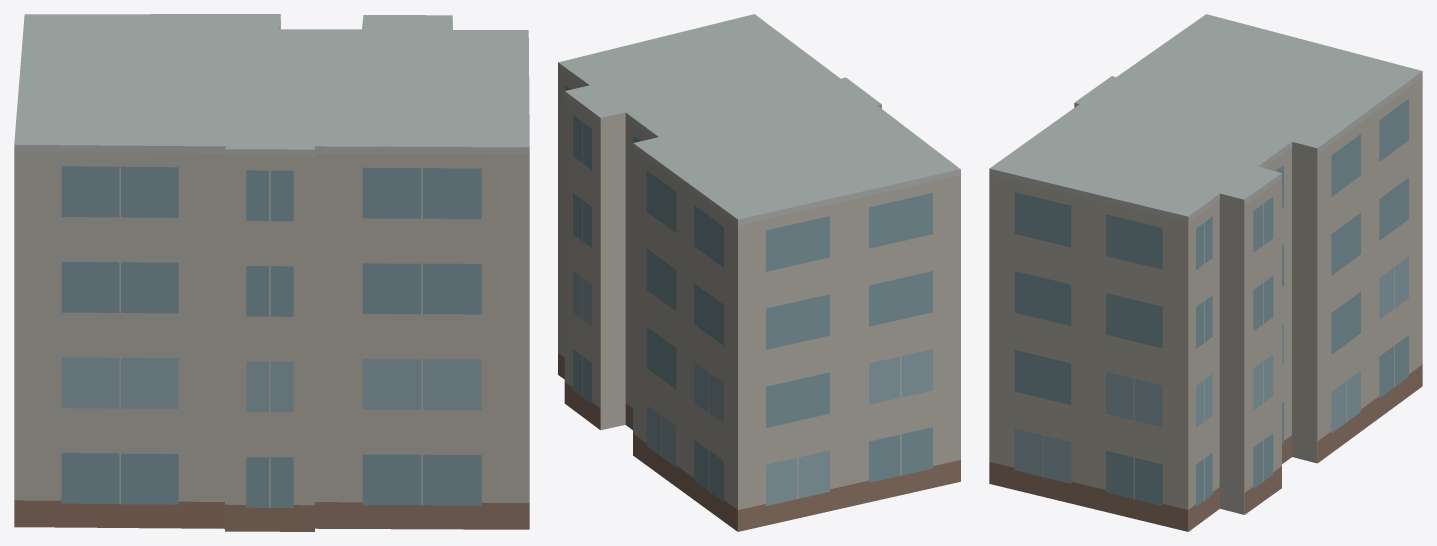
File: survey-upis-32706585.glb
3 views of the same model, side by side, from view 1: azimuth 30°, elevation 25°; view 2: azimuth 150°, elevation 25°; view 3: azimuth 270°, elevation 25° (orthographic). The views are drawn at different scales.
Visible parts, largest first — view 1: survey-upis-32706585.tmp; view 2: survey-upis-32706585.tmp; view 3: survey-upis-32706585.tmp.
Part boxes in pixels (bbox=[...]): survey-upis-32706585.tmp: bbox=[14, 14, 529, 531]; survey-upis-32706585.tmp: bbox=[558, 14, 960, 531]; survey-upis-32706585.tmp: bbox=[989, 14, 1422, 531].
Size of the model in its own units: 17.66 by 12.8 by 15.96.
